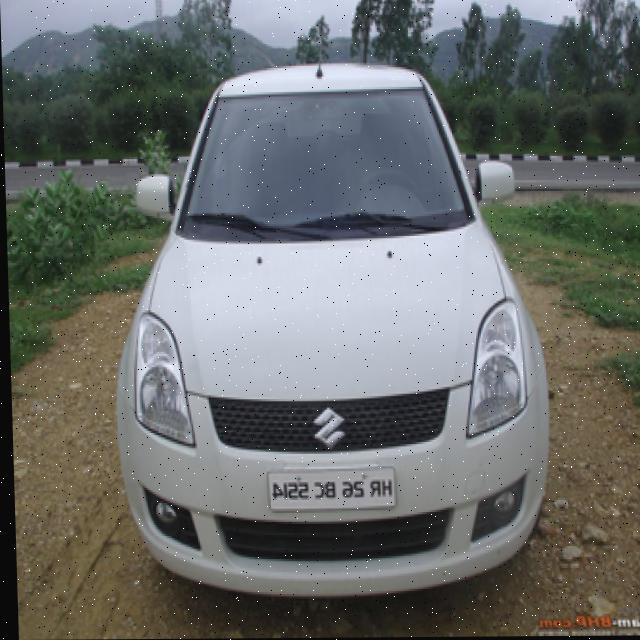plate: (265, 467, 394, 510)
